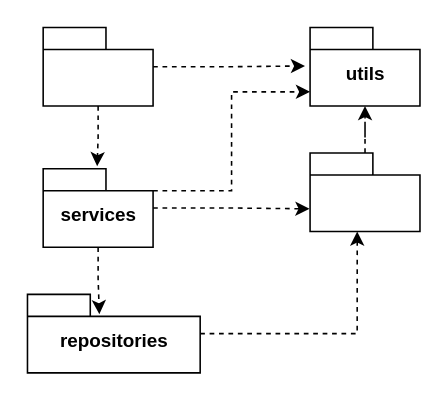
This 447x400 diagram has some shape labels left out. Each missing label, with the box of its shape:
entities: (309, 152, 420, 232)
ui: (42, 26, 153, 106)
